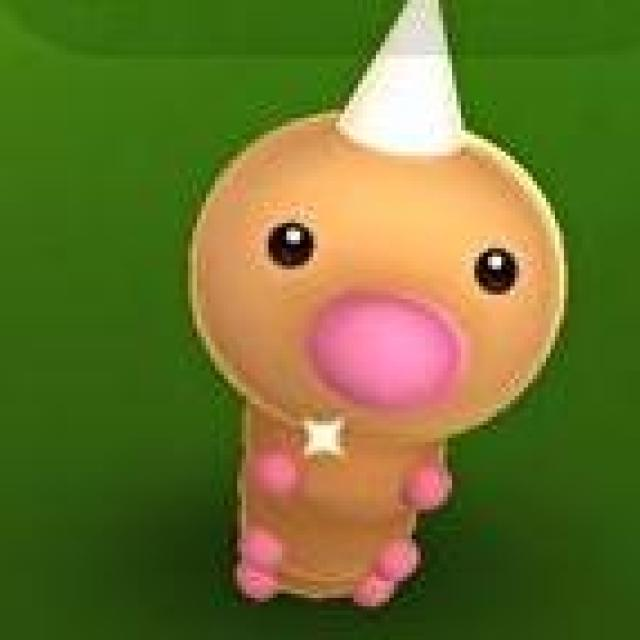Weedle: (180, 0, 569, 615)
